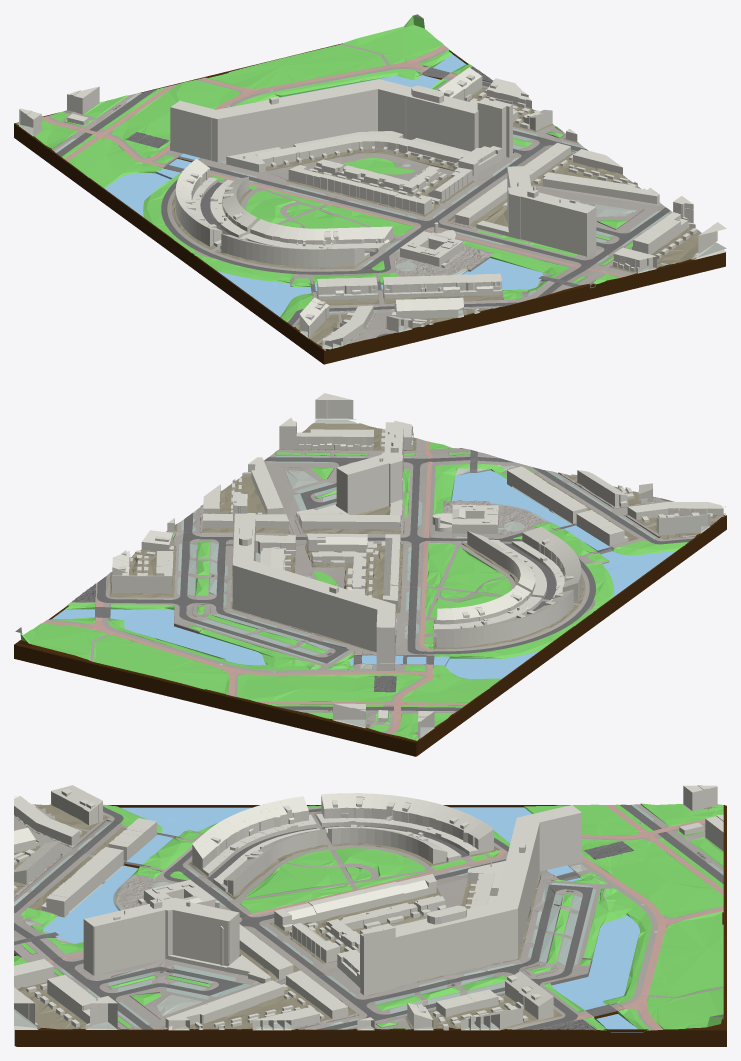
File: florijn6.glb
3 views of the same model, one above another, from view 1: azimuth 30°, elevation 25°; view 2: azimuth 150°, elevation 25°; view 3: azimuth 270°, elevation 25° (orthographic). The views are drawn at different scales.
Visible parts, largest first — view 1: Gebouwen, Begroeid, Voetpaden, Cube.001, Wegen, Erven, Water, Fietspaden, Parkeervakken, Onbegroeid, Bruggen; view 2: Gebouwen, Begroeid, Voetpaden, Cube.001, Wegen, Water, Erven, Parkeervakken, Fietspaden, Onbegroeid, Constructies, Bruggen; view 3: Gebouwen, Begroeid, Voetpaden, Cube.001, Wegen, Water, Erven, Parkeervakken, Fietspaden, Onbegroeid, Constructies, Bruggen (+1 smaller).
Part boxes in pixels (x1,y1,x2,y2): Gebouwen: (19,67,726,350); Begroeid: (16,16,632,343); Voetpaden: (33,43,672,345); Cube.001: (14,43,725,364); Wegen: (56,14,670,337); Erven: (64,87,715,346); Water: (104,54,594,316); Fietspaden: (41,45,625,277); Parkeervakken: (54,92,668,312); Onbegroeid: (19,89,726,349); Bruggen: (163,67,580,292); Gebouwen: (112,393,726,738); Begroeid: (20,442,688,740); Voetpaden: (45,438,718,738); Cube.001: (14,515,726,756); Wegen: (15,457,692,711); Water: (52,470,676,678); Erven: (109,423,722,734); Parkeervakken: (177,456,654,711); Fietspaden: (42,441,468,734); Onbegroeid: (129,419,725,737); Constructies: (94,448,638,667); Bruggen: (95,450,613,664); Gebouwen: (14,785,723,1030); Begroeid: (14,803,723,1032); Voetpaden: (14,804,723,1030); Cube.001: (14,805,726,1046); Wegen: (14,804,723,1030); Water: (42,807,642,1032); Erven: (14,804,711,1029); Parkeervakken: (14,804,723,1029); Fietspaden: (47,805,723,1030); Onbegroeid: (14,832,684,1029); Constructies: (14,827,625,1029); Bruggen: (14,832,617,1016).
Size of what is drawn, in the model's own units: 35.72 by 5.8 by 47.75.
